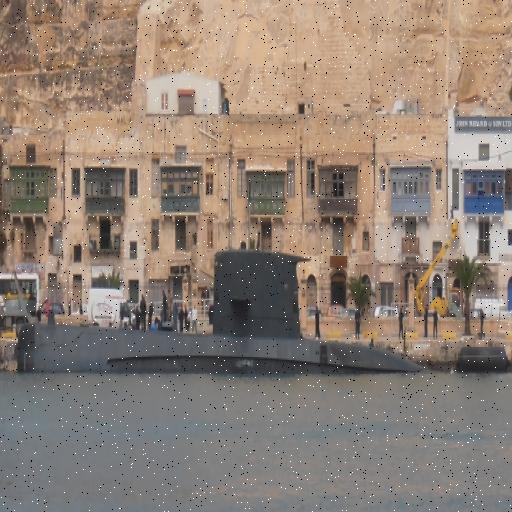submarine: (11, 246, 424, 378)
